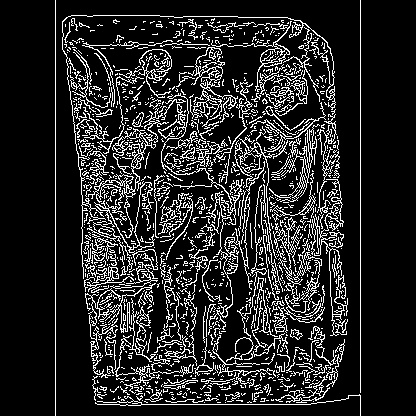buddha-standing: (228, 47, 346, 370)
